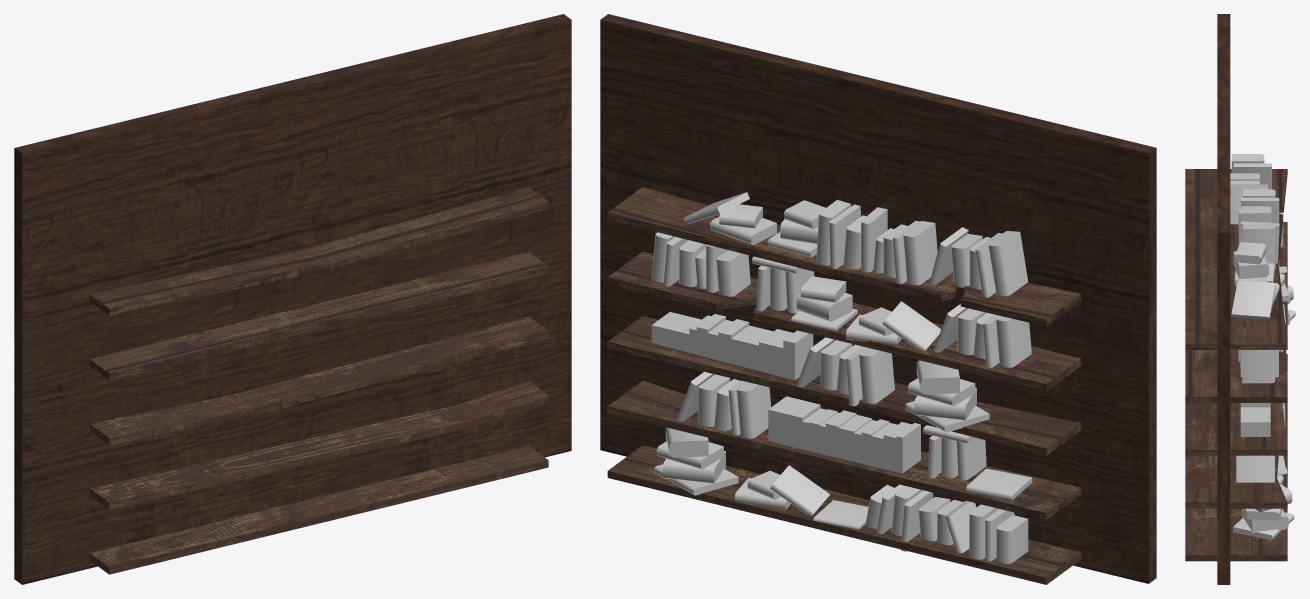
The model's file is Bibliothek_ClosingWall.fbx.
3 views of the same model, side by side, from view 1: azimuth 30°, elevation 25°; view 2: azimuth 150°, elevation 25°; view 3: azimuth 270°, elevation 25° (orthographic). The views are drawn at different scales.
Visible parts, largest first — view 1: Bibliothek_ClosingWall; view 2: Bibliothek_ClosingWall; view 3: Bibliothek_ClosingWall.
Part boxes in pixels (bbox=[...]): Bibliothek_ClosingWall: bbox=[14, 14, 571, 584]; Bibliothek_ClosingWall: bbox=[600, 14, 1156, 584]; Bibliothek_ClosingWall: bbox=[1185, 14, 1295, 584].
Bounding box in the file's own units: 400 × 300 × 85.39.
